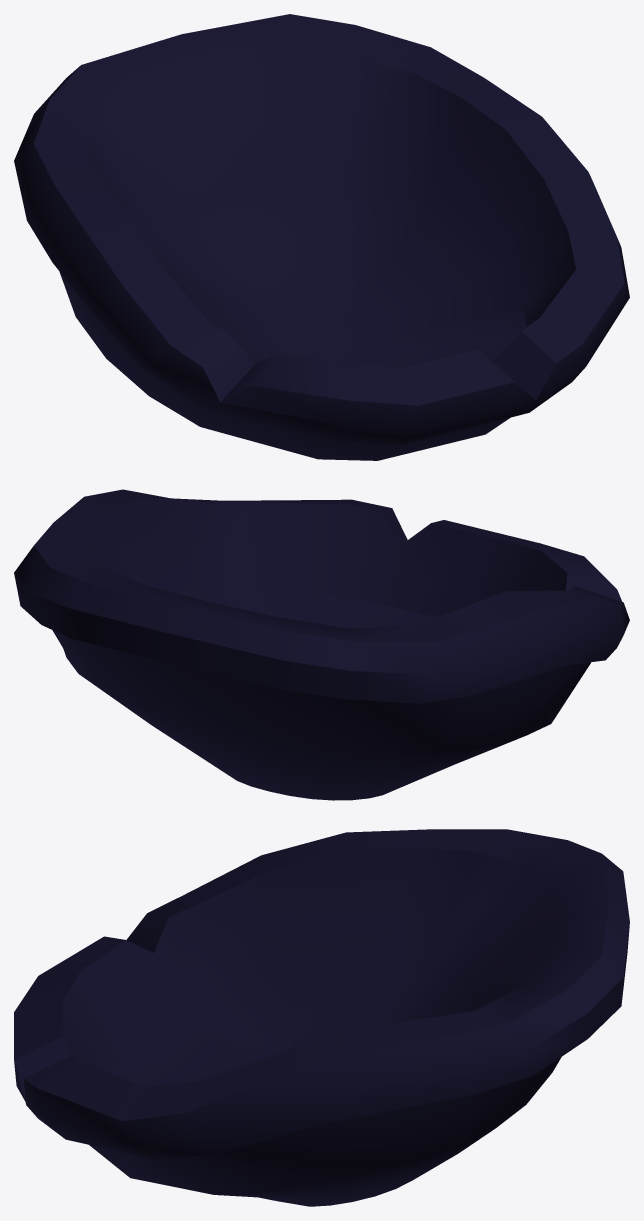
Rendered from character_cowl.fbx.
3 renders of one model, top to bottom at view 1: azimuth 30°, elevation 25°; view 2: azimuth 150°, elevation 25°; view 3: azimuth 270°, elevation 25°, orthographic.
Visible parts, largest first — view 1: character_cowl; view 2: character_cowl; view 3: character_cowl.
Boxes of the visible parts, x1=… form: character_cowl: x1=14, y1=14, x2=629, y2=460; character_cowl: x1=14, y1=489, x2=629, y2=800; character_cowl: x1=14, y1=829, x2=629, y2=1206.
Size of the model in its own units: 93.34 by 51.51 by 101.
